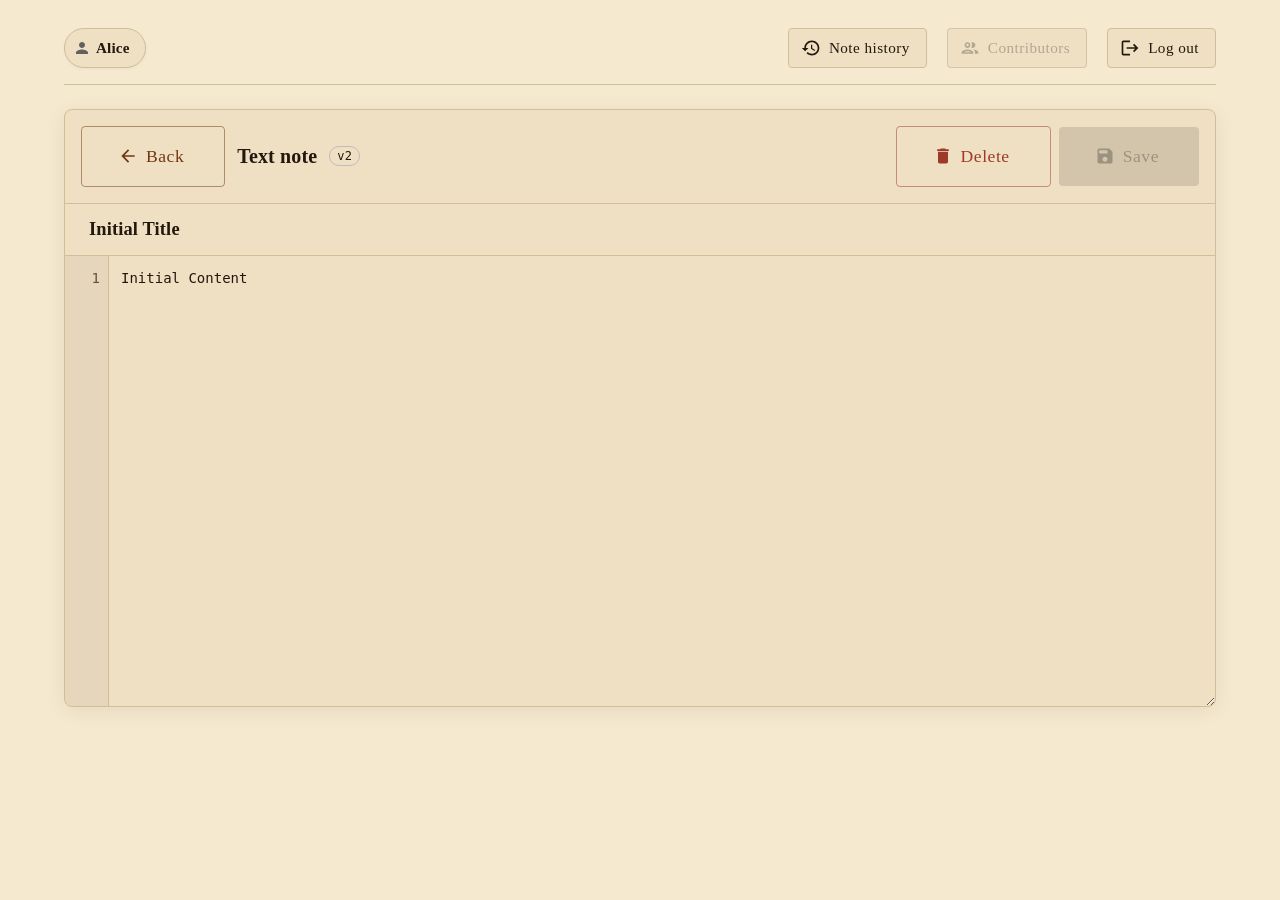
Test: NoteEditor Client Component › Version history drawer integration › preserves unsaved dirty draft while browsing historical snapshots
The width and height of the screenshot is (1280, 900).
Make dirty changes in active draft
Replace the text in the text box named "note content" with "My uncommitted edits" at (662, 481), box [109,256,1215,706]
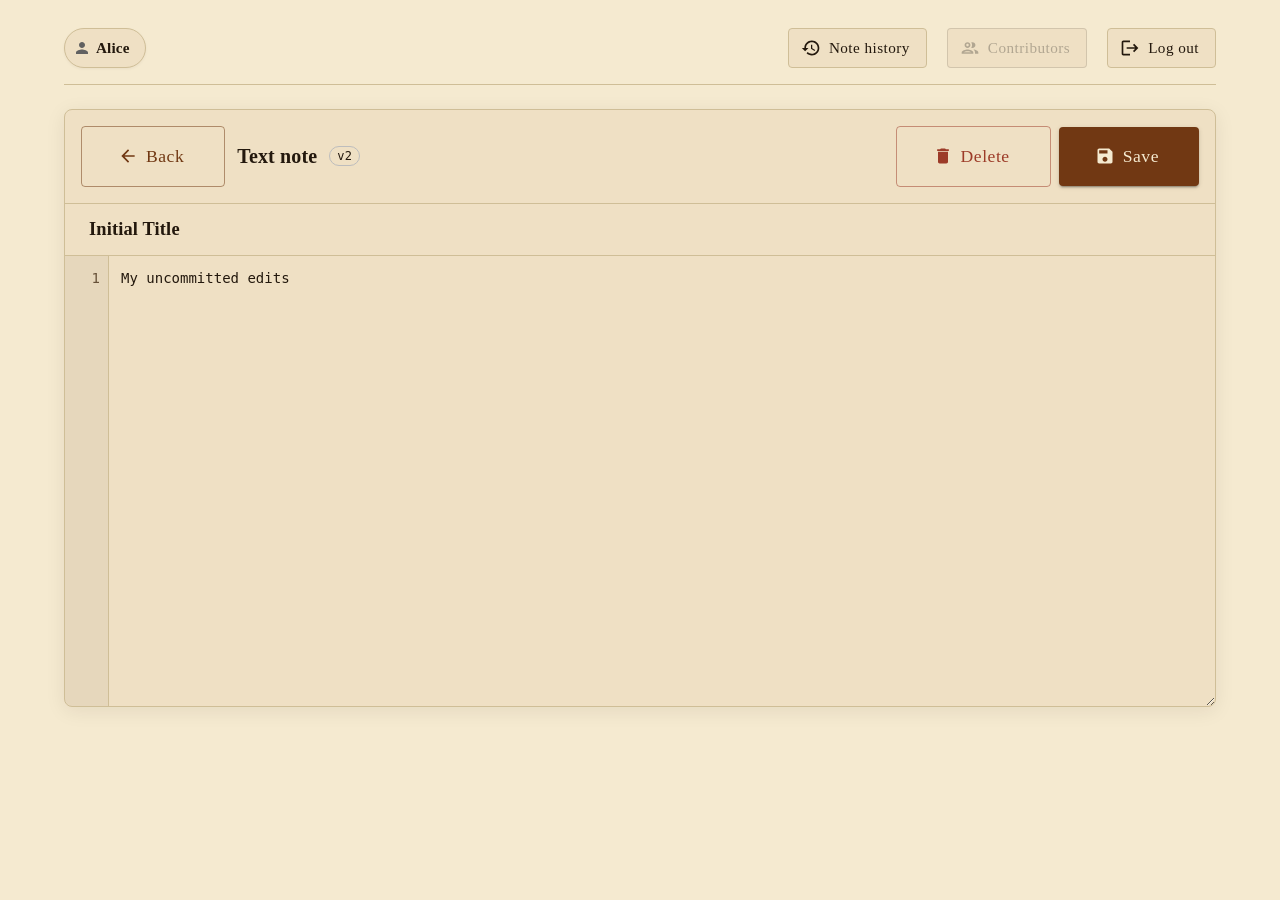
Open history drawer
Click the button "Note history" at (857, 48), box [788,28,927,68]
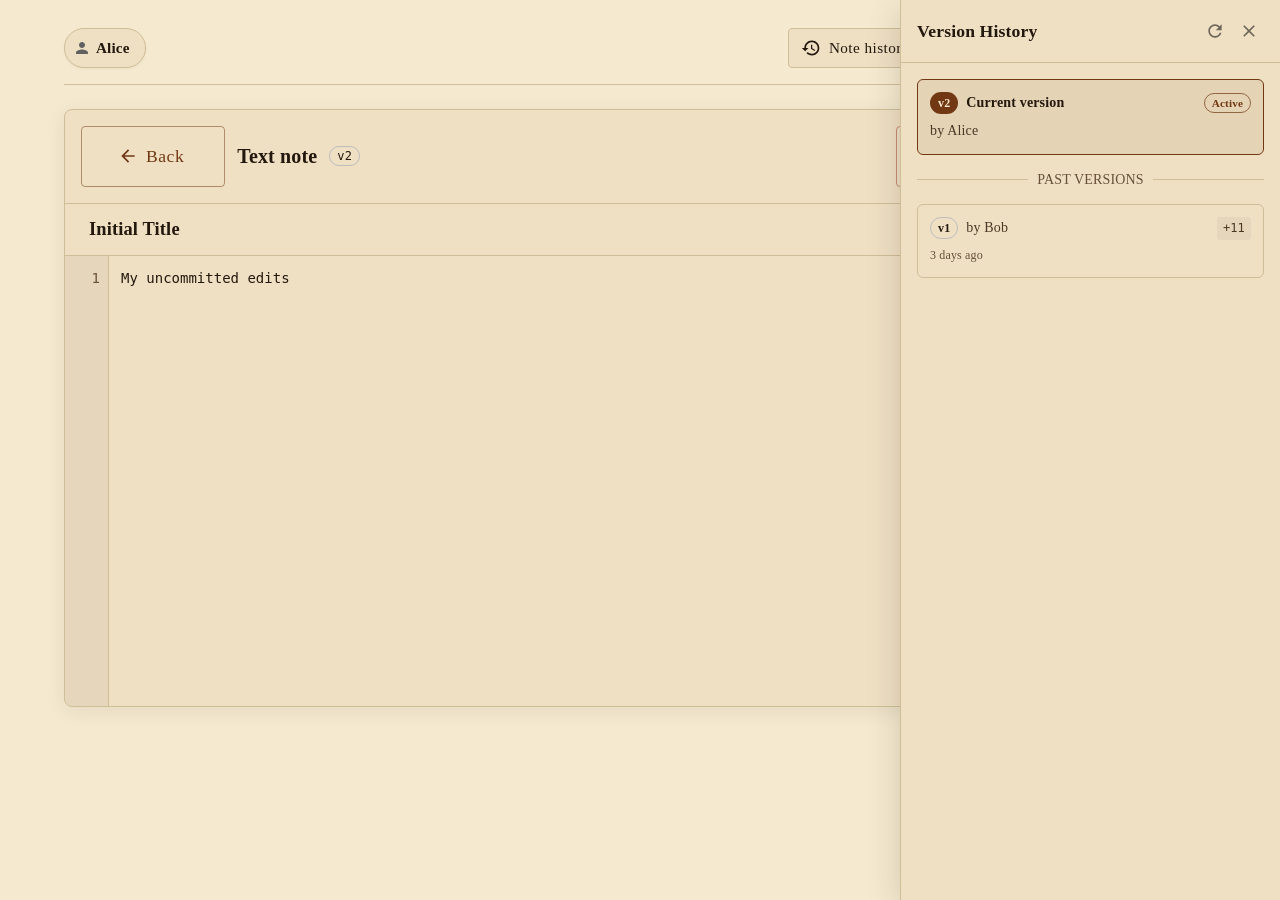
Check: the text "by Bob" is shown, box [966,217,1008,240]
Click the button "by Bob" at (1234, 228), box [917,204,1264,278]
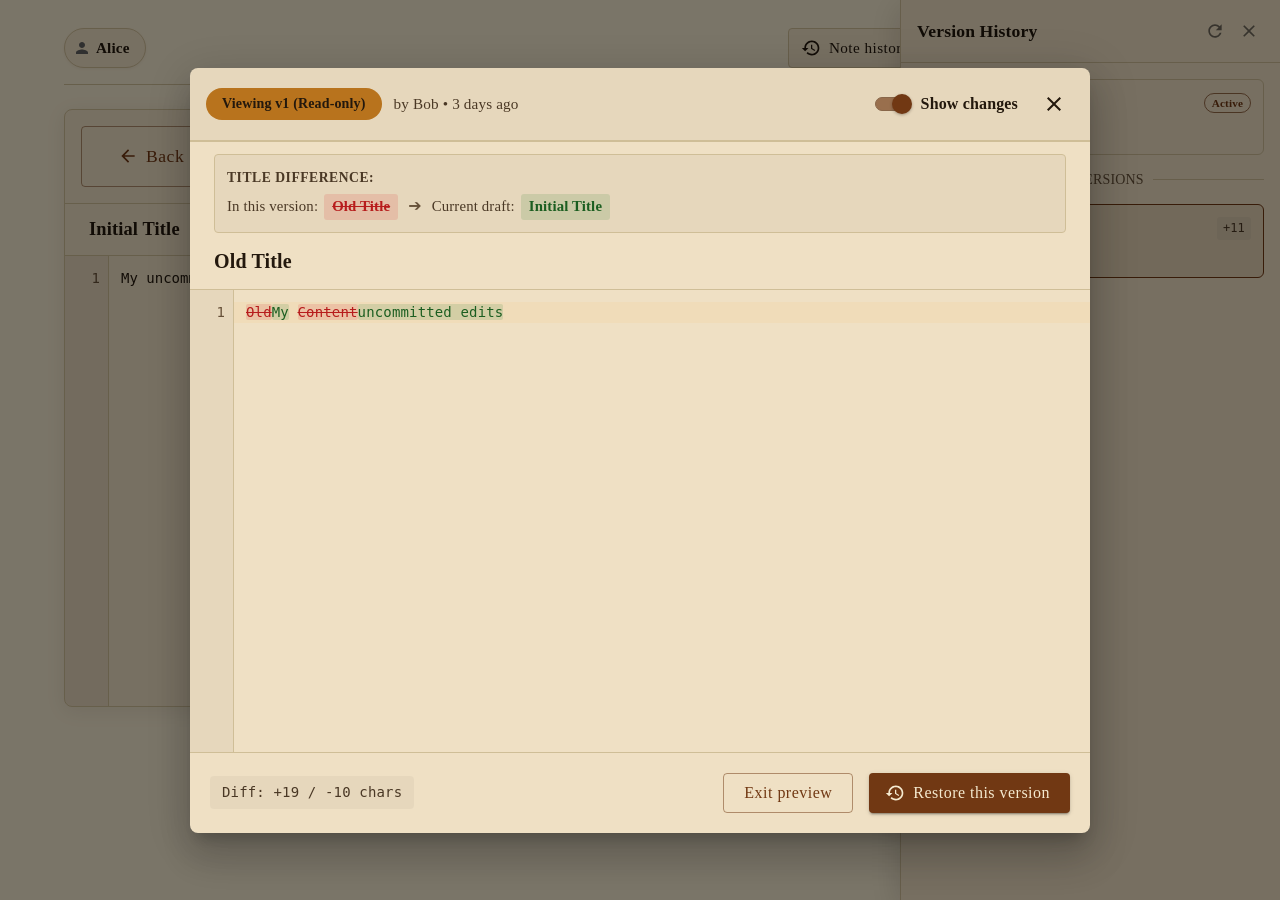
Check: the dialog is shown, box [190,68,1090,832]
Check: the text "Viewing v1 (Read-only)" is shown, box [210,93,378,114]
Exit preview
Click the button "Exit preview" at (788, 792), box [723,772,853,812]
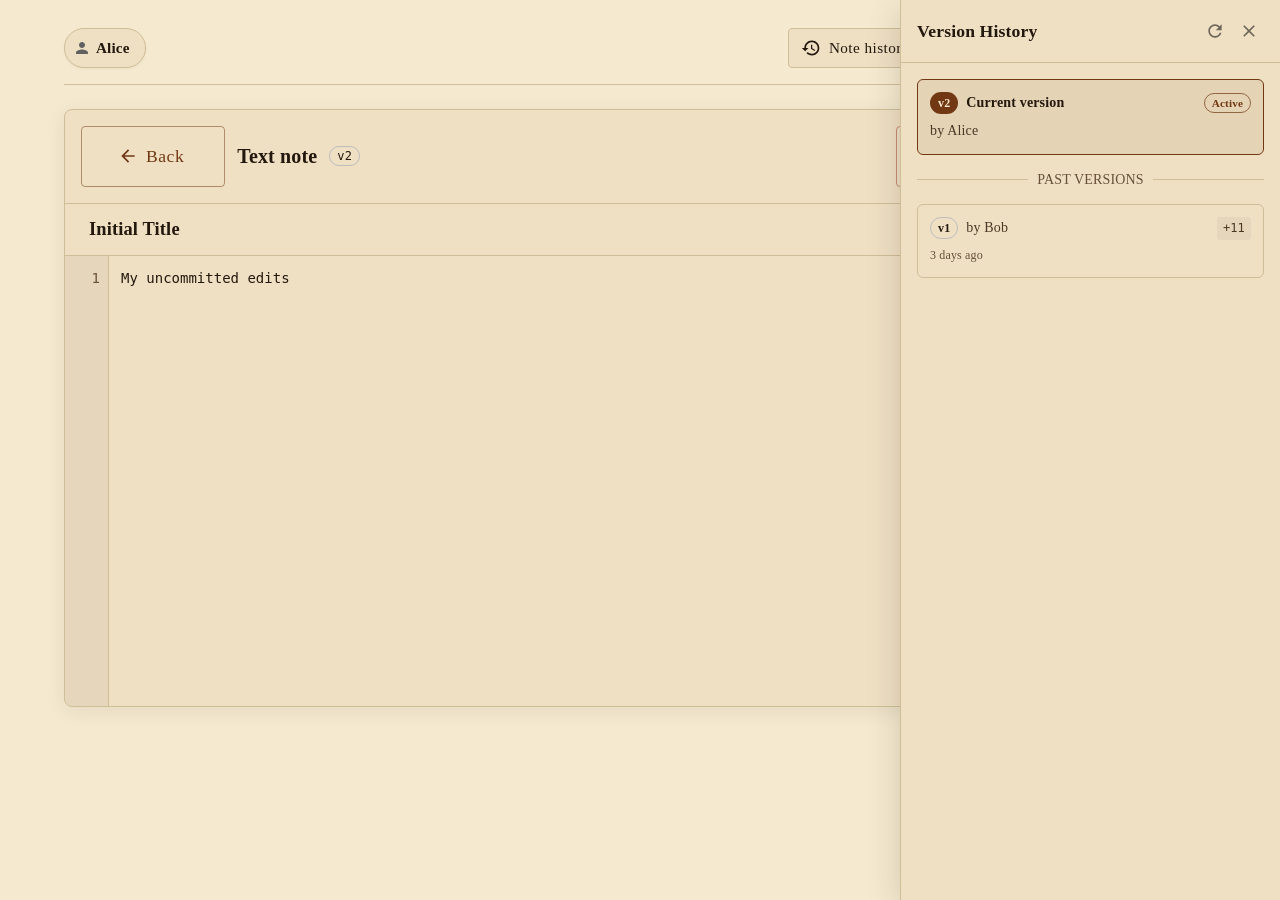
Check: the button "Save" is enabled, box [1059,127,1199,186]
